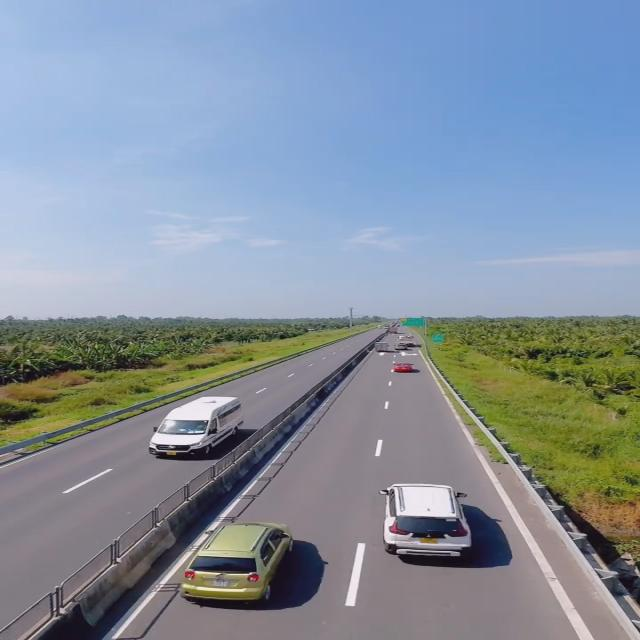car: (176, 519, 322, 607), (382, 484, 472, 566), (151, 396, 247, 460)
